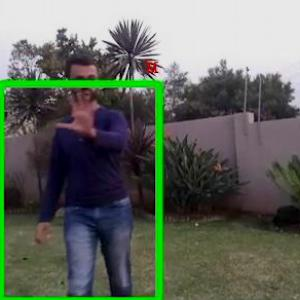follow_hand: (56, 87, 102, 139)
